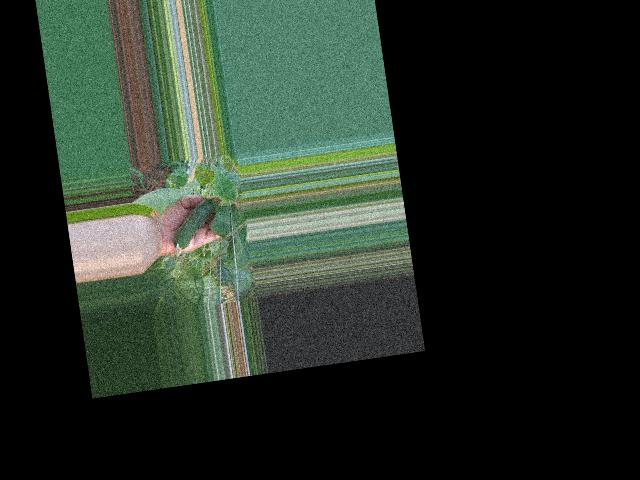cucumber: (168, 198, 222, 257)
